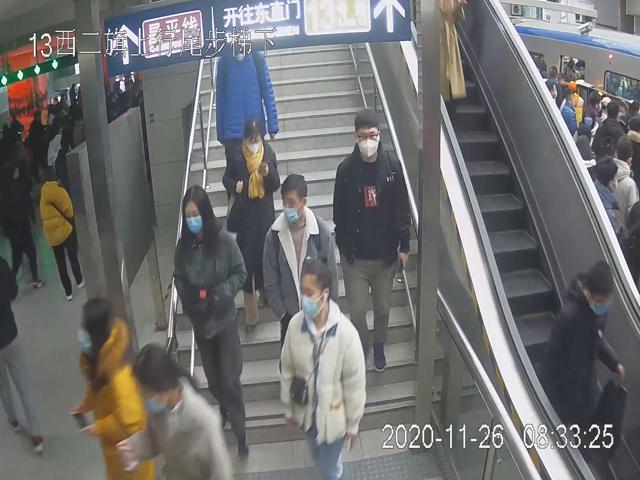person: (172, 185, 251, 460), (332, 108, 411, 375), (277, 258, 366, 480), (219, 116, 282, 334), (262, 172, 340, 343)
